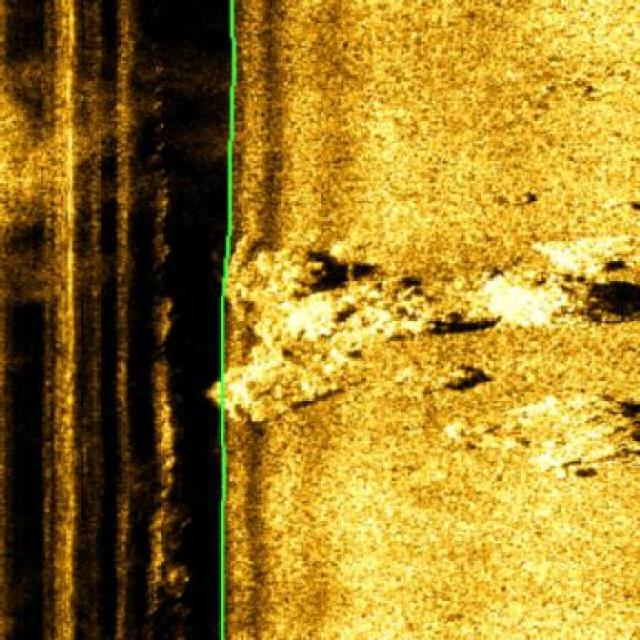bedrock group: (208, 220, 640, 478)
